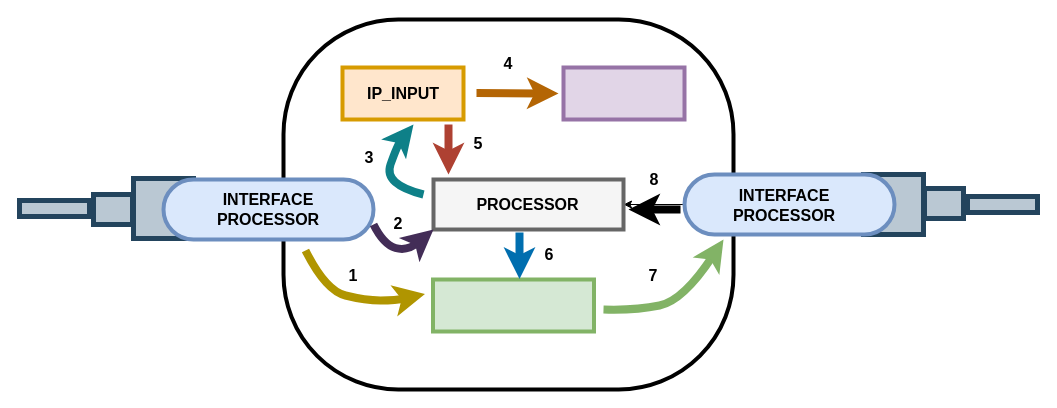
The diagram is 1057 pixels wide and 408 high, and some of its shapes have lost their labels. Here are the shapes that lost their labels. From the top down, the box of each, then its label:
(561, 65, 686, 121): ROUTING TABLE
(430, 277, 596, 333): I/O MEMORY
